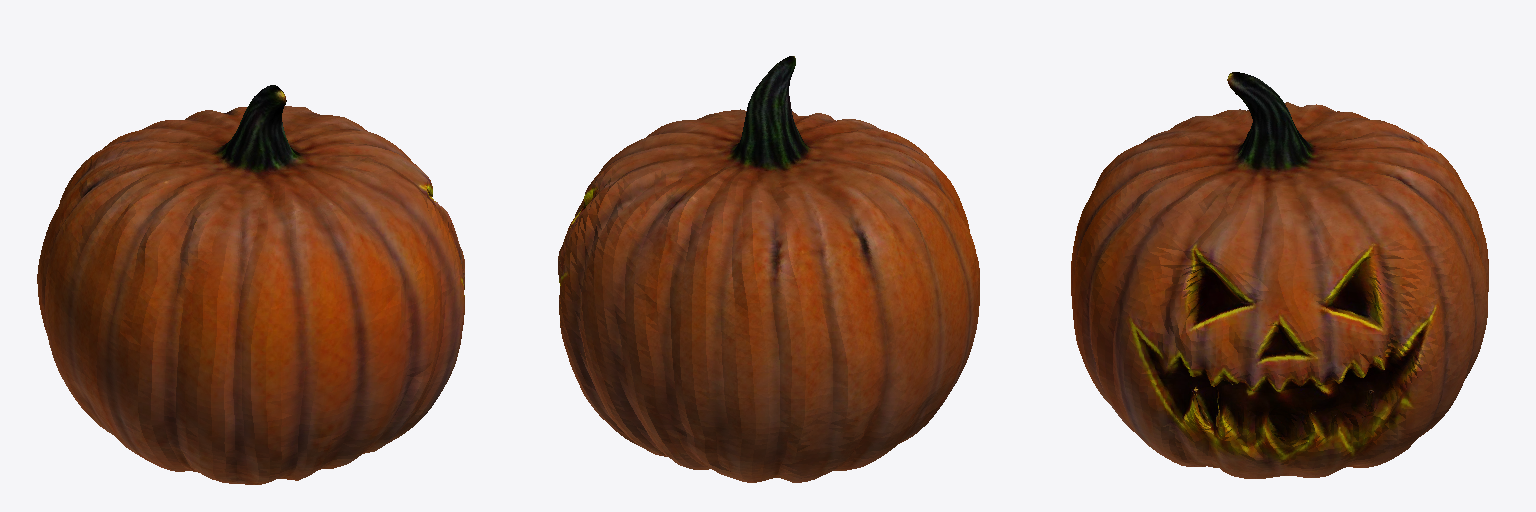
3 renders of one model, left to right at view 1: azimuth 30°, elevation 25°; view 2: azimuth 150°, elevation 25°; view 3: azimuth 270°, elevation 25°, orthographic.
Parts seen in each view (by area): view 1: mesh; view 2: mesh; view 3: mesh.
Part boxes in pixels (x1,y1,x2,y2): mesh: (37, 85, 464, 484); mesh: (558, 56, 979, 482); mesh: (1071, 72, 1488, 478).
Size of the model in its own units: 0.9903 by 0.9653 by 0.998.
Materials: 1 (1 with a texture image).